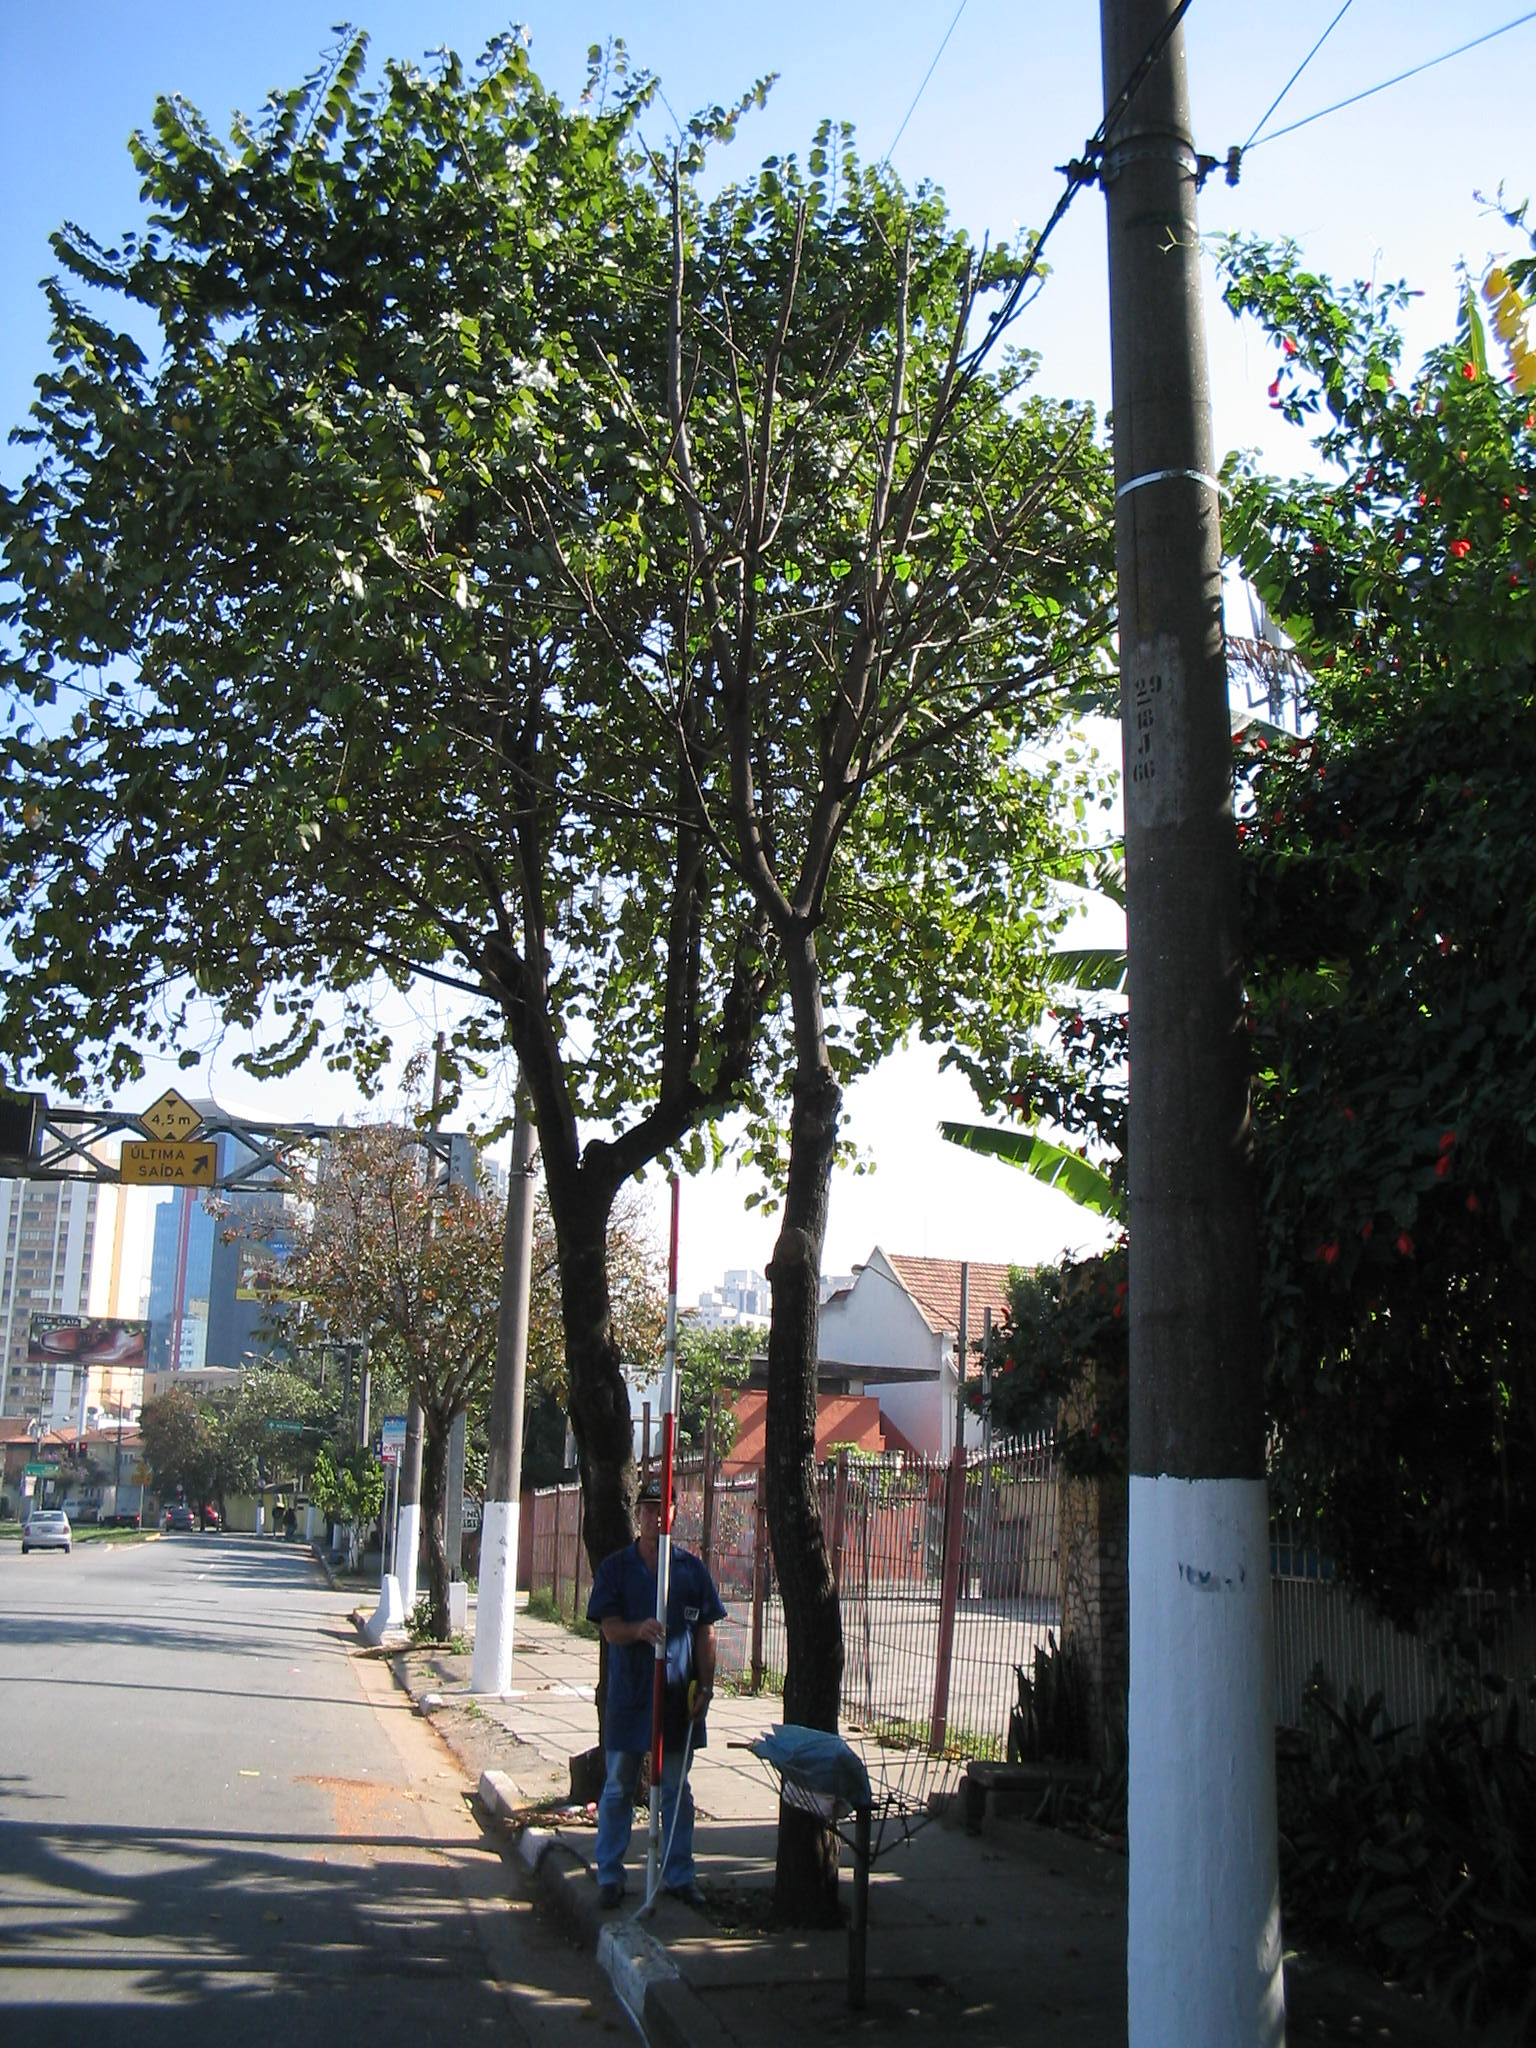stem: (753, 961, 881, 1934)
stick: (641, 1171, 707, 1906)
tree: (539, 176, 1107, 1937)
